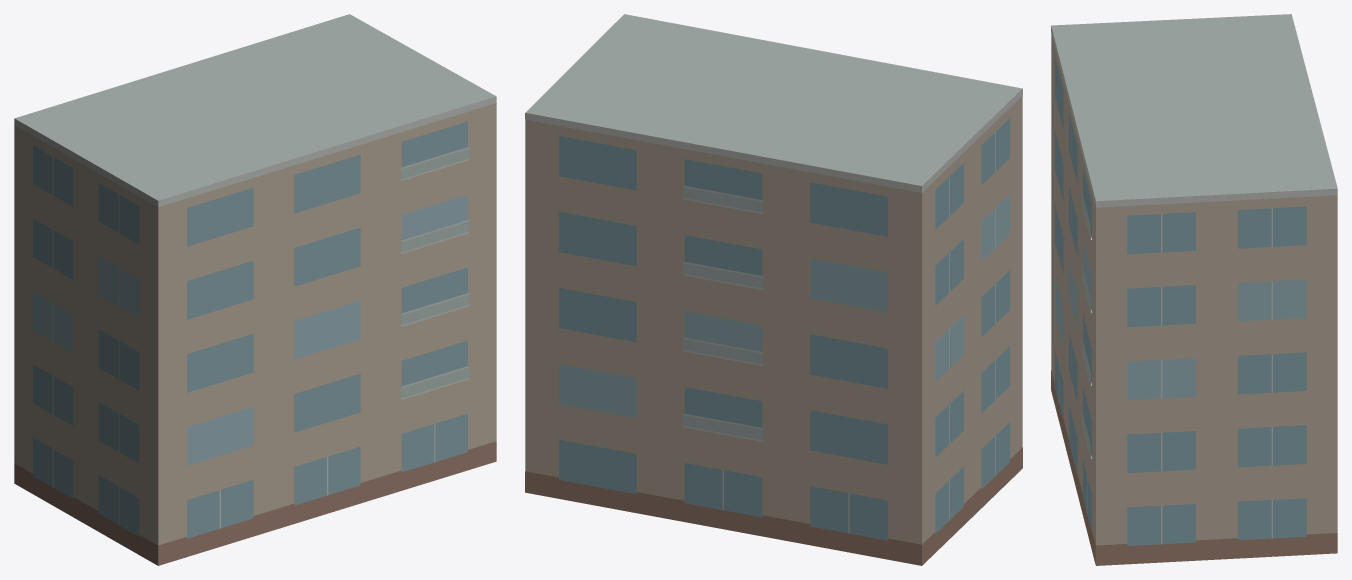
File: survey-upis-32890045.glb
3 views of the same model, side by side, from view 1: azimuth 30°, elevation 25°; view 2: azimuth 150°, elevation 25°; view 3: azimuth 270°, elevation 25° (orthographic). The views are drawn at different scales.
Visible parts, largest first — view 1: survey-upis-32890045.tmp; view 2: survey-upis-32890045.tmp; view 3: survey-upis-32890045.tmp.
Boxes of the visible parts, <box> form: survey-upis-32890045.tmp: <box>14,14,496,565</box>; survey-upis-32890045.tmp: <box>525,14,1022,565</box>; survey-upis-32890045.tmp: <box>1051,14,1337,565</box>.
Size of the model in its own units: 14.99 by 13.6 by 9.7.
